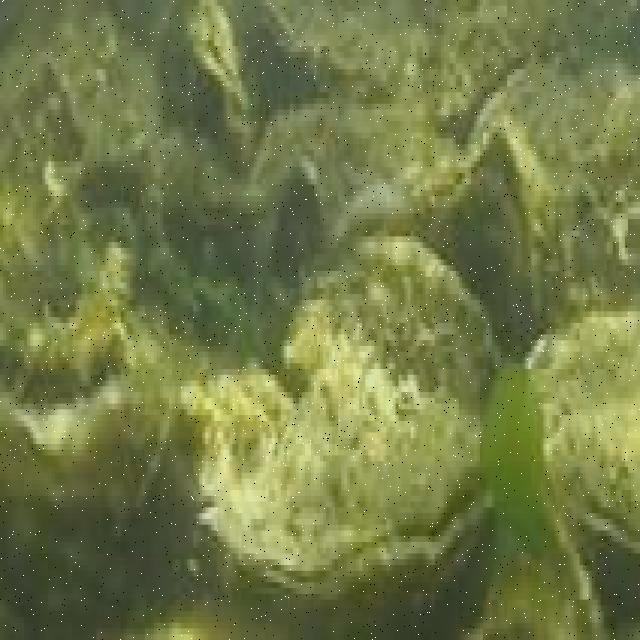Oyster-Closed: (196, 340, 491, 626), (278, 231, 504, 430), (247, 99, 464, 286), (523, 310, 640, 569), (470, 70, 598, 288), (0, 385, 168, 525), (464, 130, 563, 354), (255, 0, 421, 103), (477, 519, 605, 640), (166, 2, 253, 167), (323, 165, 470, 255), (275, 173, 324, 294)
